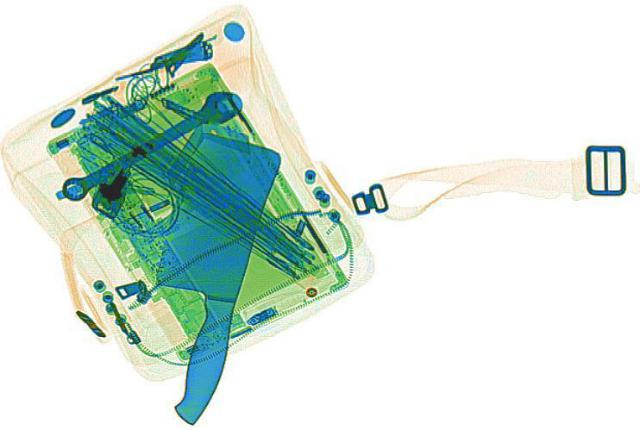Knife: (109, 127, 285, 422)
Wrench: (45, 86, 251, 201)
